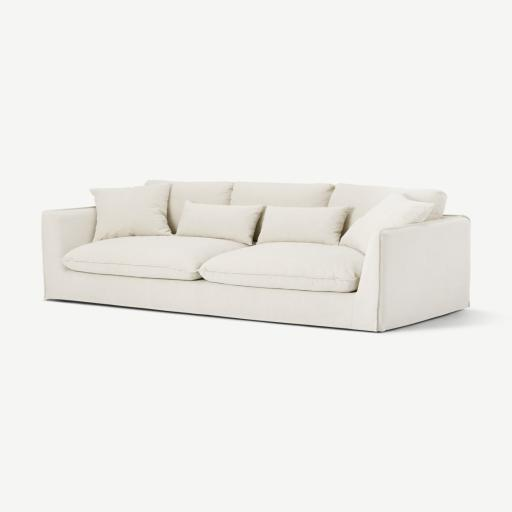back_cushion: (91, 181, 446, 252)
base: (50, 270, 354, 328)
left_arm: (351, 216, 470, 331)
right_arm: (43, 207, 95, 298)
seat_cushion: (60, 235, 363, 292)
two-seater: (0, 0, 511, 512)
